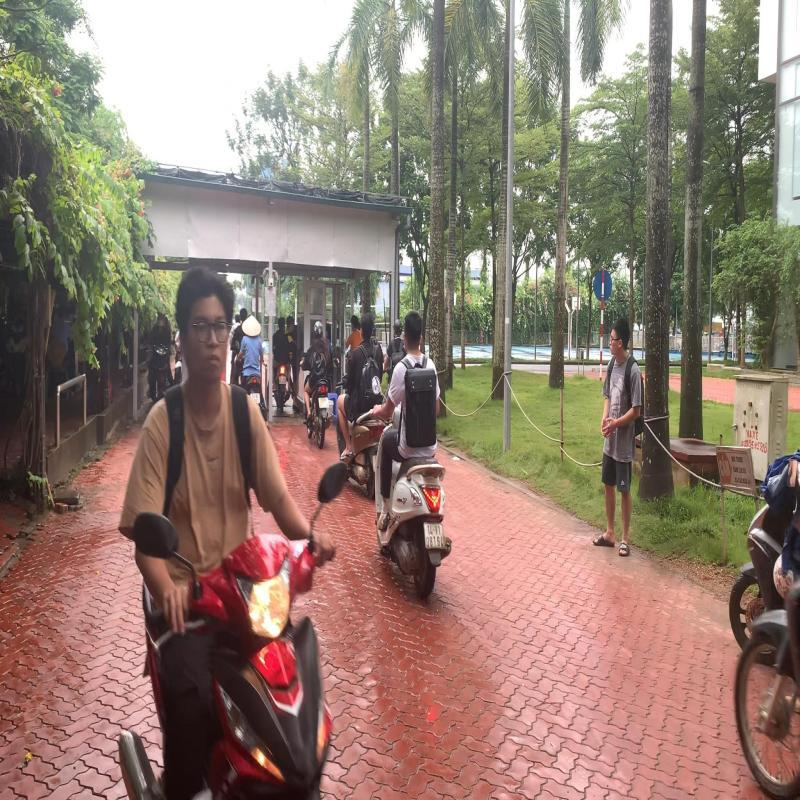licenseplate: (424, 522, 445, 550)
motorcyclist: (368, 308, 454, 602)
nohelmet: (404, 310, 422, 354)
